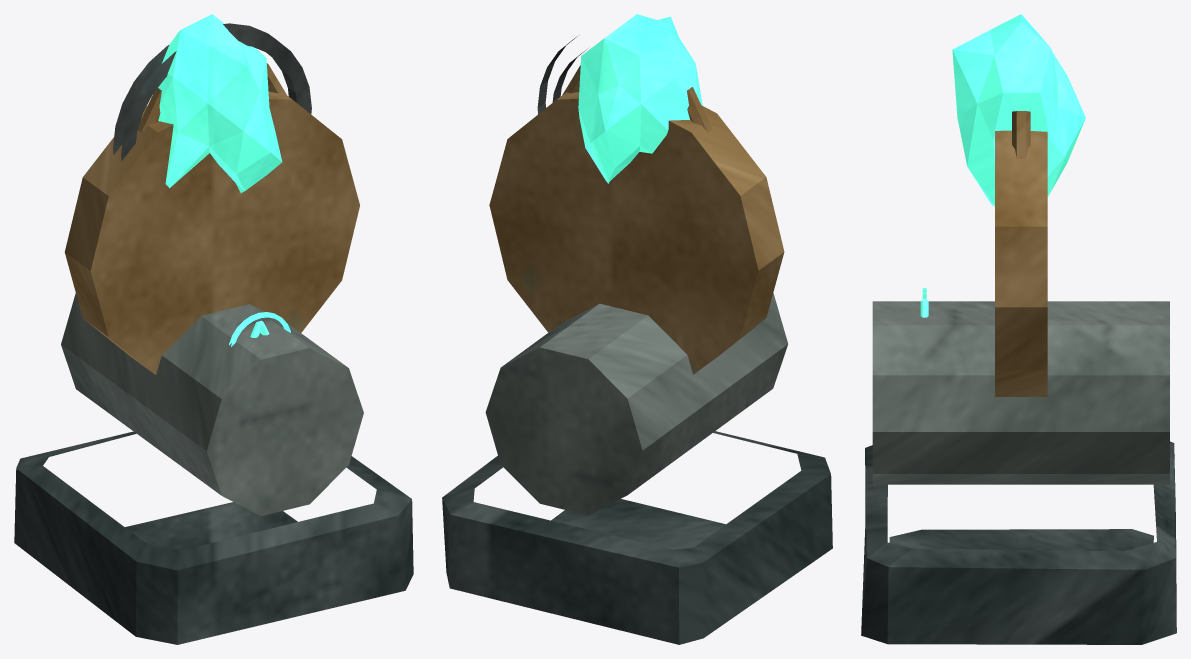
Rendered from 0591_relic_pedestal_16.glb.
3 views of the same model, side by side, from view 1: azimuth 30°, elevation 25°; view 2: azimuth 150°, elevation 25°; view 3: azimuth 270°, elevation 25° (orthographic).
Visible parts, largest first — view 1: brass, stone_dark, stone, glow, iron; view 2: brass, stone_dark, stone, glow, iron; view 3: stone, stone_dark, brass, glow.
Part boxes in pixels (x1,y1,x2,y2): brass: (64,63,359,374); stone_dark: (14,431,413,644); stone: (61,293,363,515); glow: (158,14,290,346); iron: (113,23,311,160); brass: (489,65,784,374); stone_dark: (442,431,832,644); stone: (485,293,787,515); glow: (578,14,702,183); iron: (537,36,586,114); stone: (872,301,1169,484); stone_dark: (861,441,1176,644); brass: (995,111,1047,396); glow: (920,14,1085,317).
Bounding box in the file's own units: 0.9684 × 1.89 × 0.9566.
Materials: 5 (5 with a texture image).
